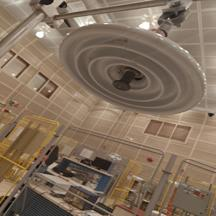insulator: (46, 17, 216, 121)
